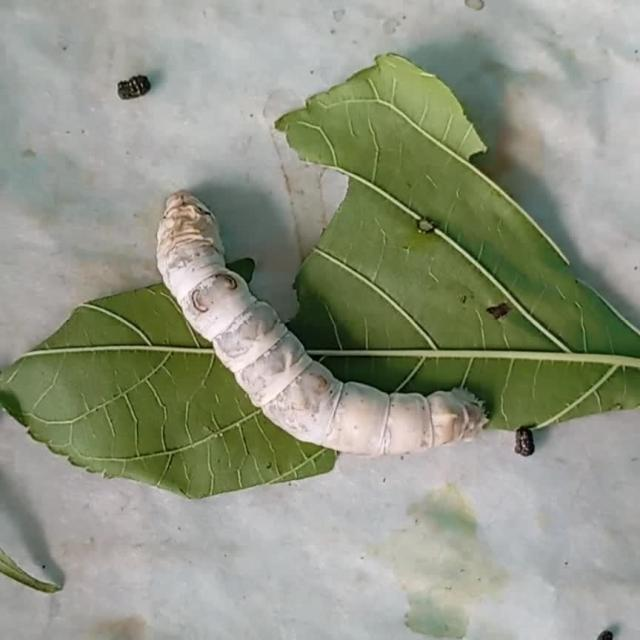Grasserie: (131, 165, 508, 490)
